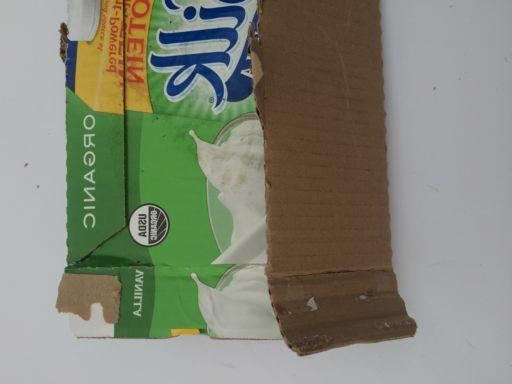cardboard: (49, 4, 416, 358)
